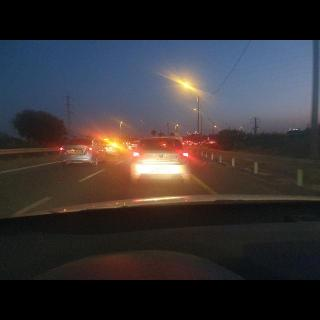LicensePlate: (70, 150, 80, 152)
